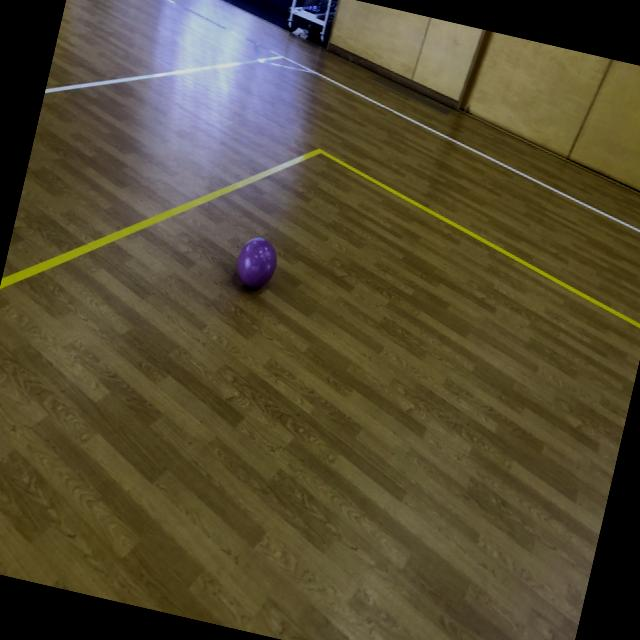purple_ball: (233, 233, 281, 291)
